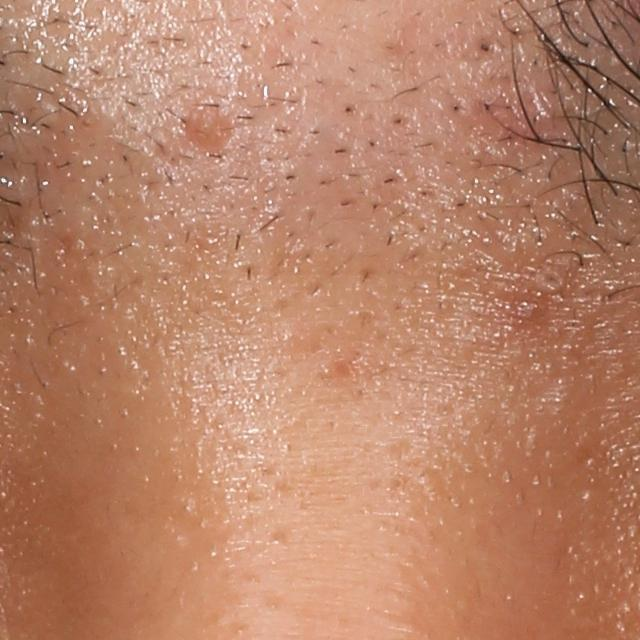atrophic_scar: (175, 99, 241, 157)
